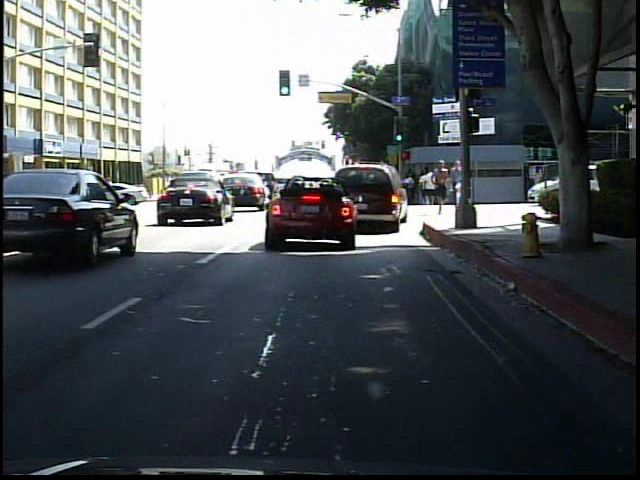person: (430, 158, 451, 217), (451, 173, 473, 211), (104, 176, 123, 204)
